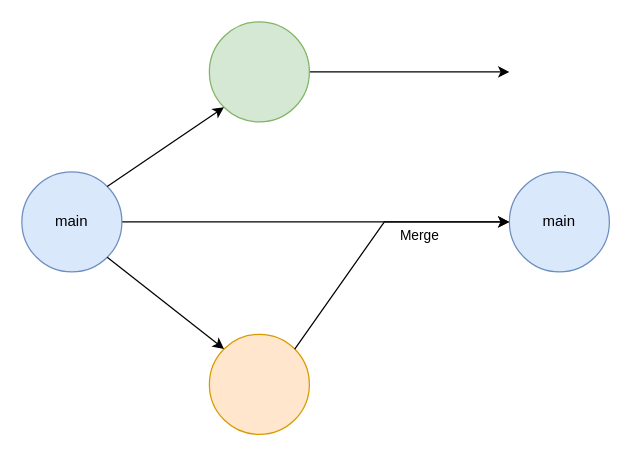
The diagram is 631 pixels wide and 456 high, and some of its shapes have lost their labels. Here are the shapes that lost their labels. From the top down, the centre of each, then its label:
pixel 258 71: featureA
pixel 258 383: featureB
